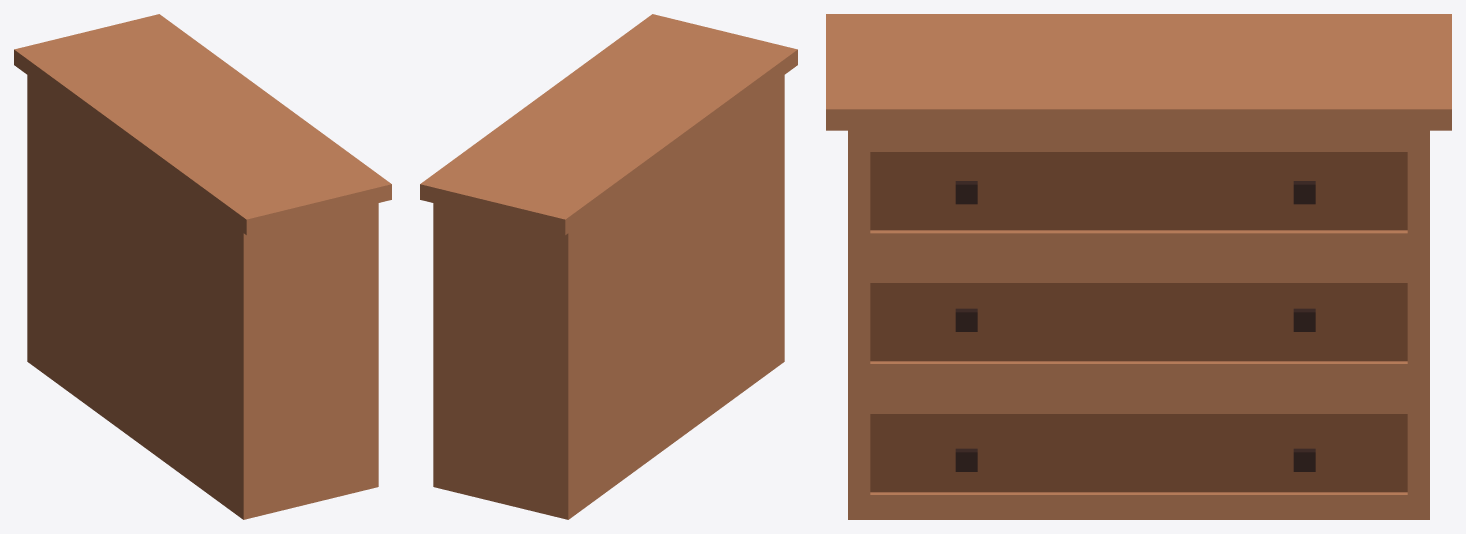
File: dresser_2.fbx
3 renders of one model, left to right at view 1: azimuth 30°, elevation 25°; view 2: azimuth 150°, elevation 25°; view 3: azimuth 270°, elevation 25°, orthographic. The views are drawn at different scales.
Parts seen in each view (by area): view 1: Cube.096; view 2: Cube.096; view 3: Cube.096.
Part boxes in pixels (left/top/right/bottom): Cube.096: left=14, top=14, right=391, bottom=519; Cube.096: left=420, top=14, right=797, bottom=519; Cube.096: left=826, top=14, right=1451, bottom=519.
Size of the model in its own units: 49.14 by 99.34 by 136.
